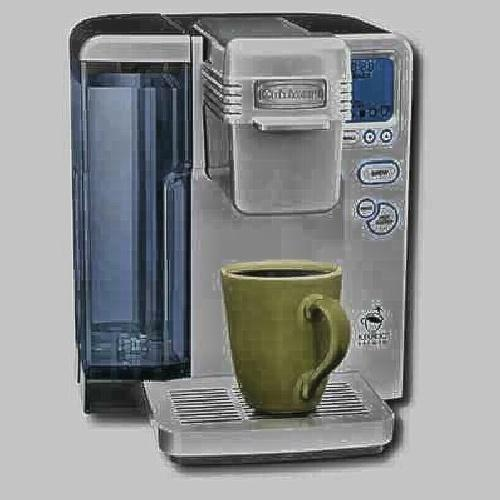coffee_maker: (61, 16, 417, 462)
